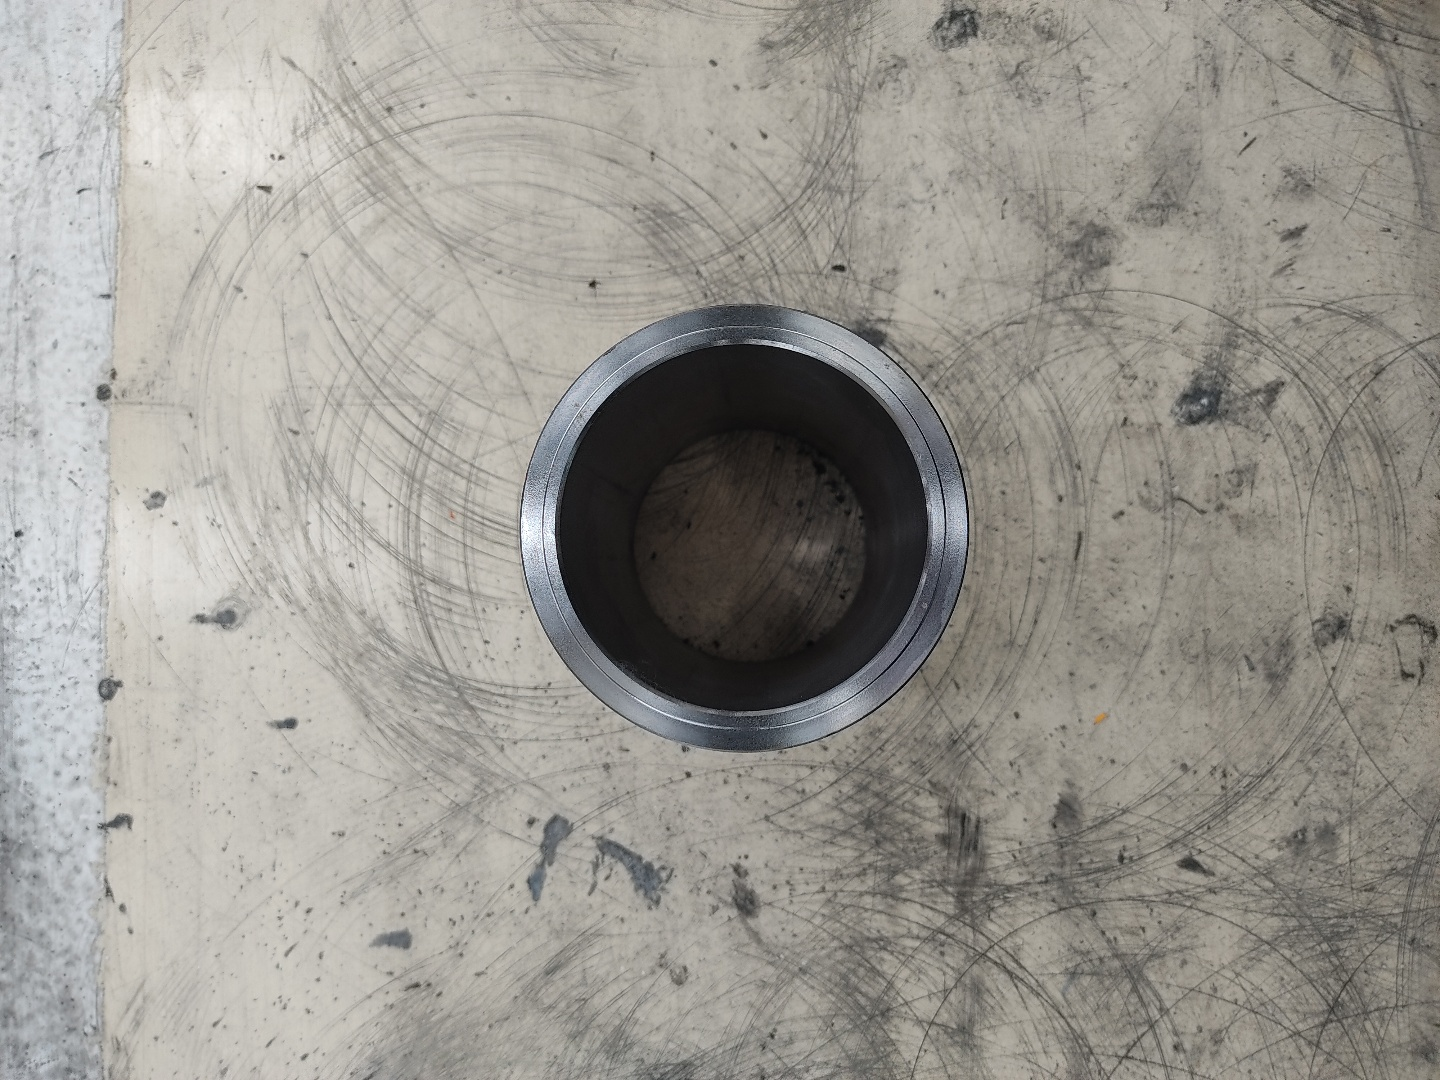cylinder: (514, 299, 977, 756)
